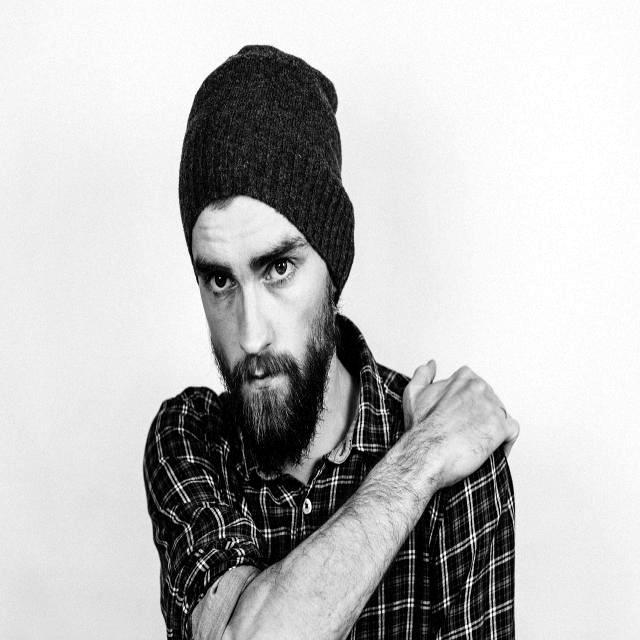no_hard_hat: (179, 46, 354, 289)
person: (144, 46, 504, 638)
